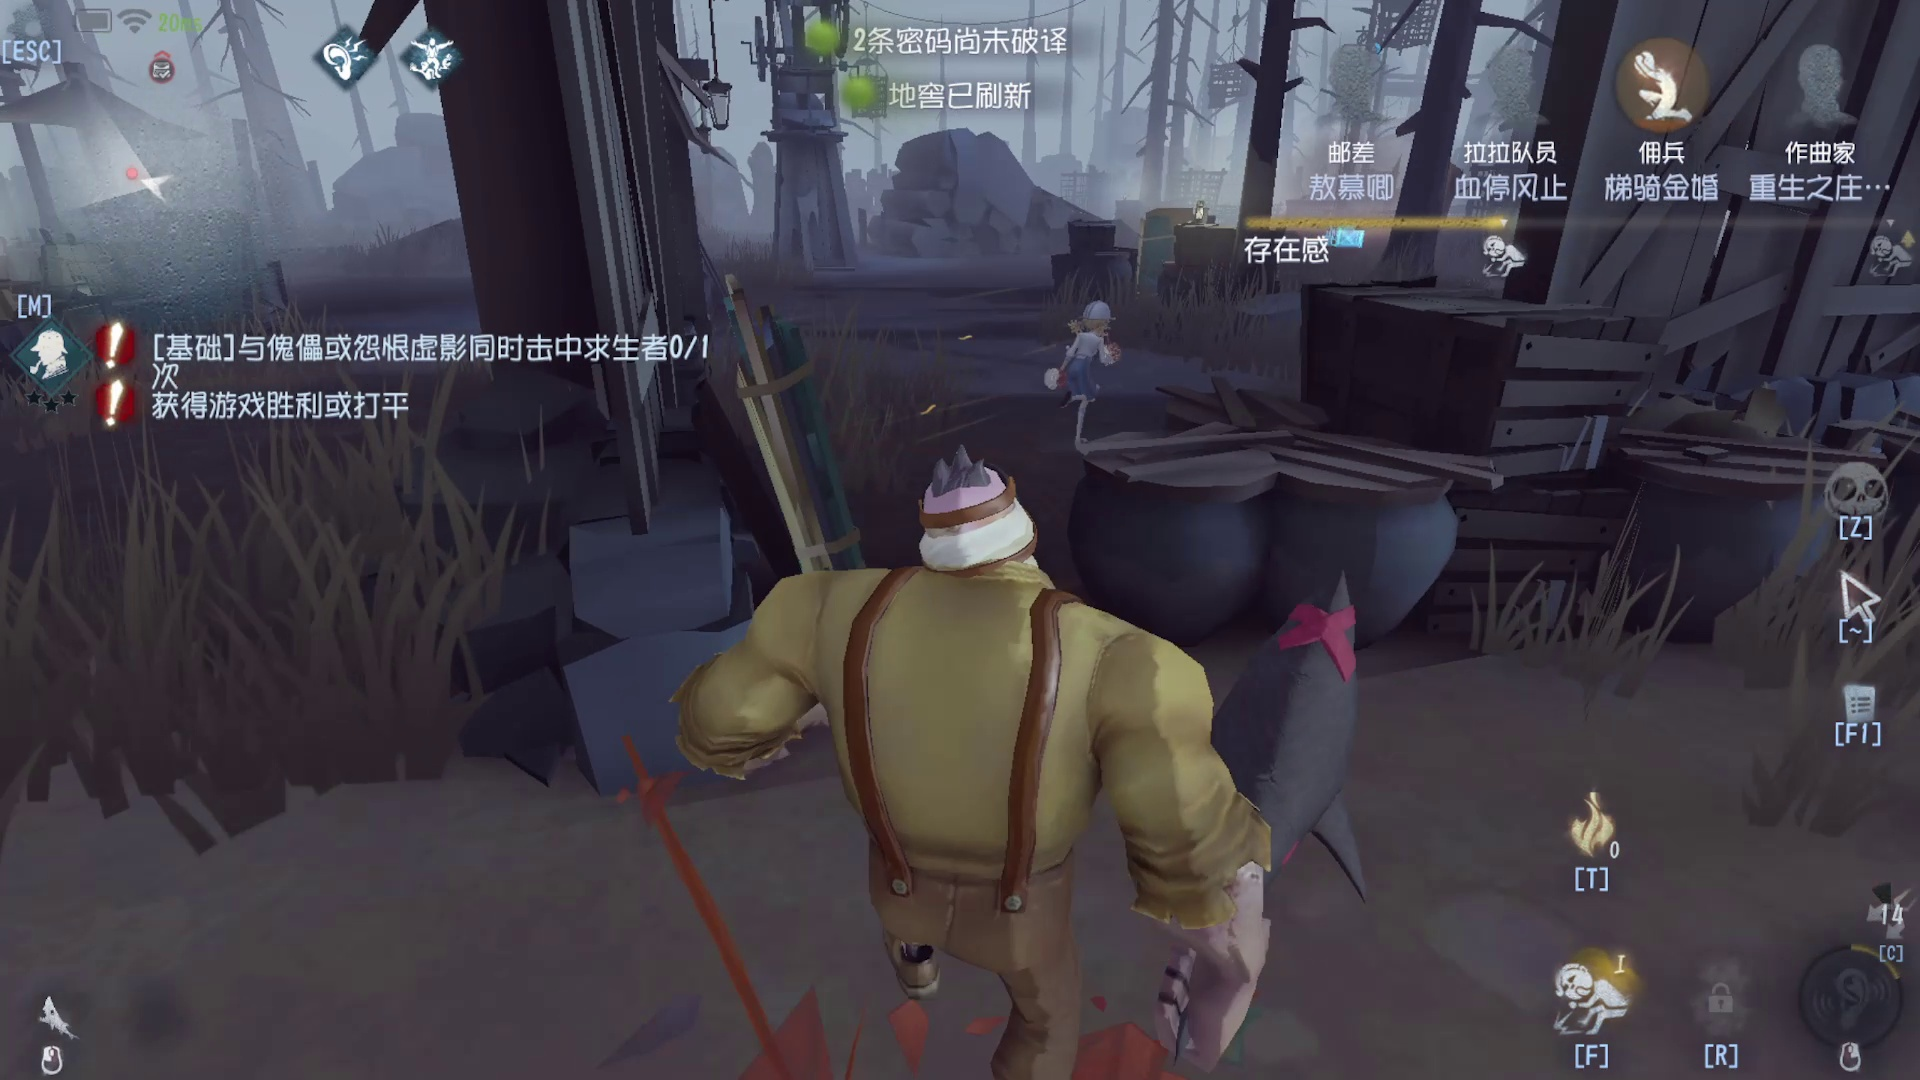密码机: (1319, 24, 1407, 264)
木板: (688, 272, 891, 607), (1109, 190, 1182, 309)
求生者: (1048, 282, 1118, 414)
